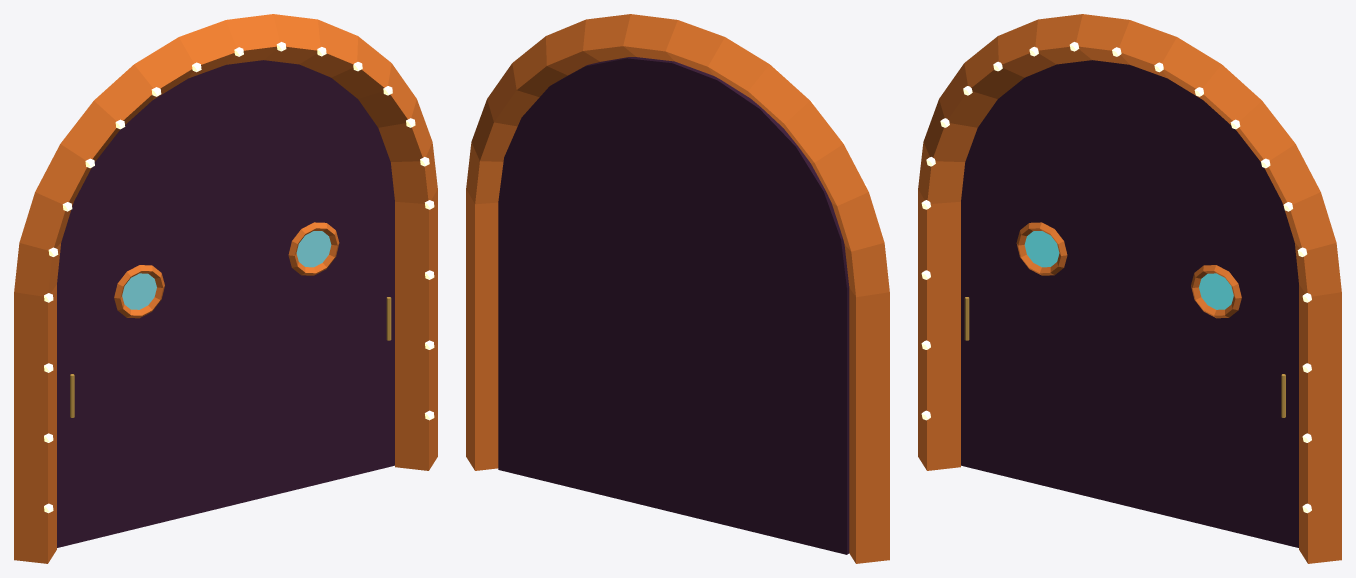
The picture shows the model from 3 angles, left to right: view 1: azimuth 30°, elevation 25°; view 2: azimuth 150°, elevation 25°; view 3: azimuth 330°, elevation 25°; orthographic projection.
Parts seen in each view (by area): view 1: arch_door_r_panel, arch_door_l_panel, arch_frame, arch_door_l_porthole, arch_door_r_porthole, arch_door_l_glass, arch_door_r_glass; view 2: arch_door_l_panel, arch_door_r_panel, arch_frame; view 3: arch_door_l_panel, arch_door_r_panel, arch_frame, arch_door_r_porthole, arch_door_l_porthole, arch_door_r_glass, arch_door_l_glass.
Boxes of the visible parts, x1,y1,x2,y2 form: arch_door_r_panel: [224, 60, 394, 507]; arch_door_l_panel: [57, 65, 224, 547]; arch_frame: [14, 14, 437, 563]; arch_door_l_porthole: [114, 265, 164, 318]; arch_door_r_porthole: [288, 222, 339, 275]; arch_door_l_glass: [122, 273, 156, 309]; arch_door_r_glass: [296, 231, 331, 267]; arch_door_l_panel: [672, 61, 849, 554]; arch_door_r_panel: [498, 57, 674, 512]; arch_frame: [466, 14, 889, 563]; arch_door_l_panel: [961, 60, 1131, 507]; arch_door_r_panel: [1131, 65, 1298, 547]; arch_frame: [918, 14, 1341, 563]; arch_door_r_porthole: [1191, 265, 1241, 318]; arch_door_l_porthole: [1016, 222, 1067, 275]; arch_door_r_glass: [1199, 273, 1233, 309]; arch_door_l_glass: [1024, 231, 1059, 267].
Size of the model in its own units: 3.16 by 3.48 by 0.3598.
